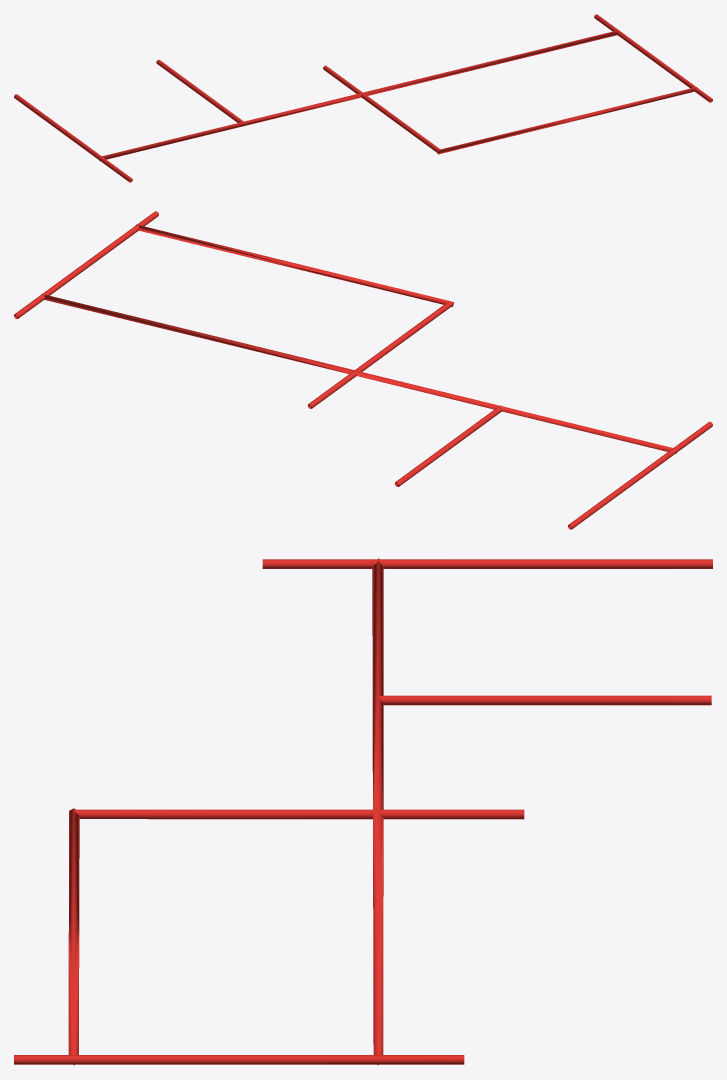
File: fire.glb
3 renders of one model, top to bottom at view 1: azimuth 30°, elevation 25°; view 2: azimuth 150°, elevation 25°; view 3: azimuth 270°, elevation 25°, orthographic. The views are drawn at different scales.
Parts seen in each view (by area): view 1: Cylinder.002; view 2: Cylinder.002; view 3: Cylinder.002.
Part boxes in pixels (x1,y1,x2,y2): Cylinder.002: [14, 14, 712, 182]; Cylinder.002: [14, 211, 712, 529]; Cylinder.002: [14, 558, 712, 1065].
Bounding box in the file's own units: 32.07 × 0.2615 × 18.96.
